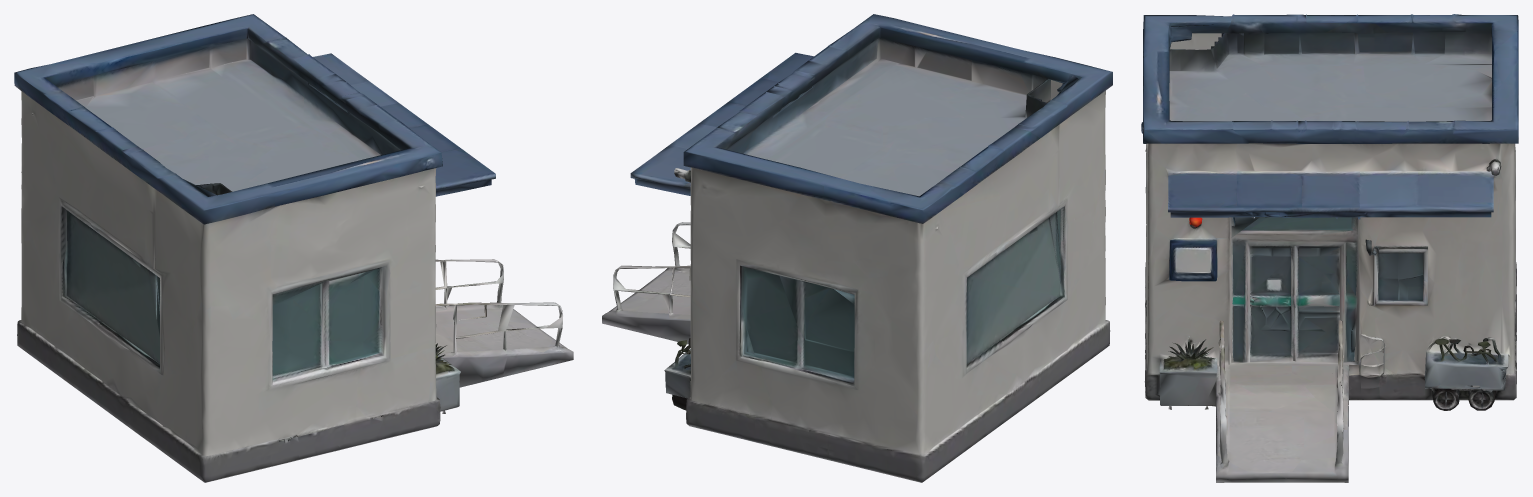
The model's file is webtoon_neighborhood_police_box.glb.
The picture shows the model from 3 angles, left to right: view 1: azimuth 30°, elevation 25°; view 2: azimuth 150°, elevation 25°; view 3: azimuth 270°, elevation 25°; orthographic projection.
Visible parts, largest first — view 1: webtoon_neighborhood_police_box_mesh_00; view 2: webtoon_neighborhood_police_box_mesh_00; view 3: webtoon_neighborhood_police_box_mesh_00.
Boxes of the visible parts, x1=… form: webtoon_neighborhood_police_box_mesh_00: x1=14, y1=14, x2=573, y2=482; webtoon_neighborhood_police_box_mesh_00: x1=602, y1=14, x2=1112, y2=482; webtoon_neighborhood_police_box_mesh_00: x1=1141, y1=14, x2=1518, y2=482.
Bounding box in the file's own units: 6.17 × 4 × 5.01.
Materials: 1 (1 with a texture image).
